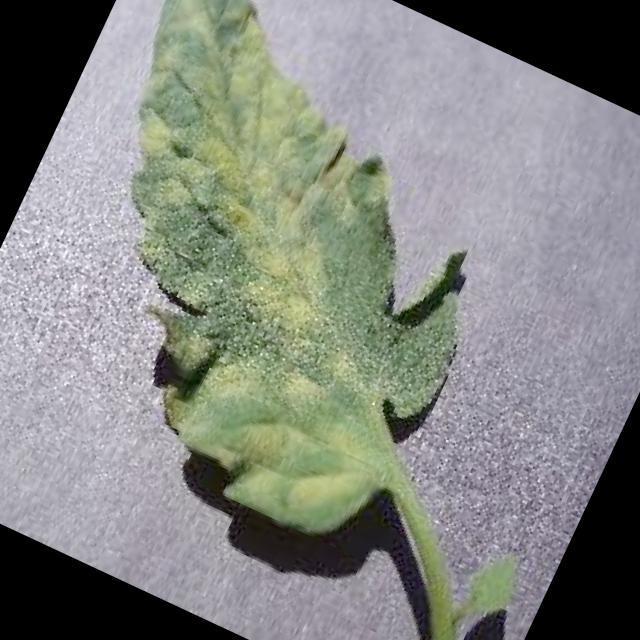Tomato mold leaf: (0, 0, 580, 560)
